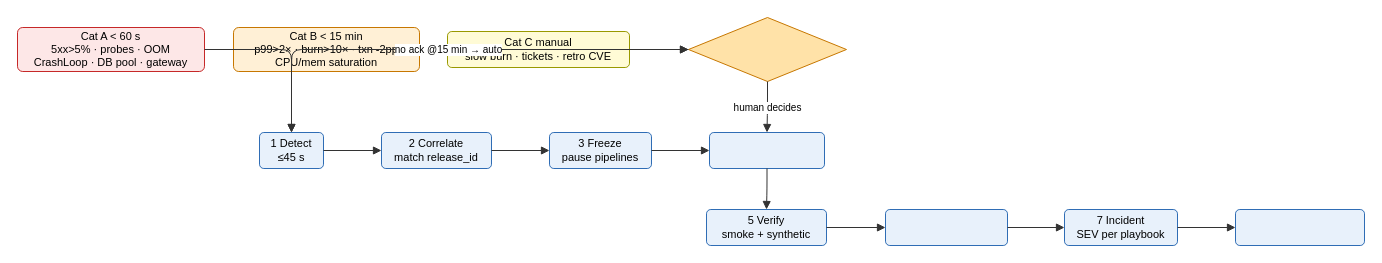
This 1382x263 diagram has some shape labels left out. Here are the shapes that lost their labels. From the top down, the box of each, then its label:
(688, 16, 846, 82): SRE on-call ack ≤5 min
(708, 132, 824, 168): 4 Rollback abort + weight→0
(884, 208, 1008, 246): 6 Notify Slack · status page
(1234, 208, 1364, 246): 8 Post-mortem ≤5 days · RBI report
